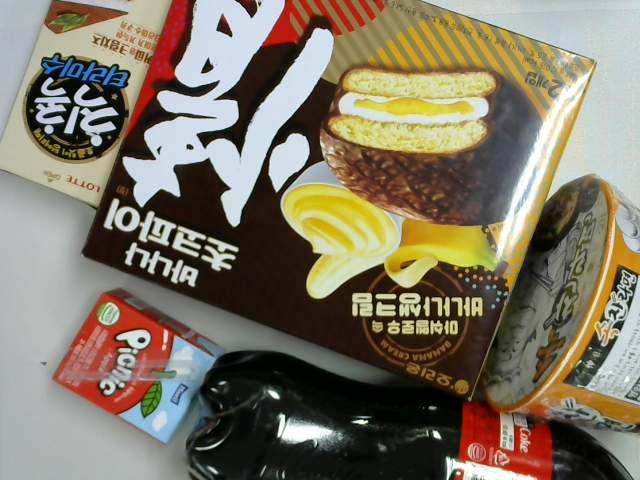Chicchok_Tiramisu: (1, 1, 171, 214)
Choco_Pie_Banana: (78, 1, 600, 407)
Coca_Cola_1.5L: (183, 349, 637, 480)
Hejangchan: (476, 170, 640, 439)
Picnic_Apple: (50, 289, 224, 449)
